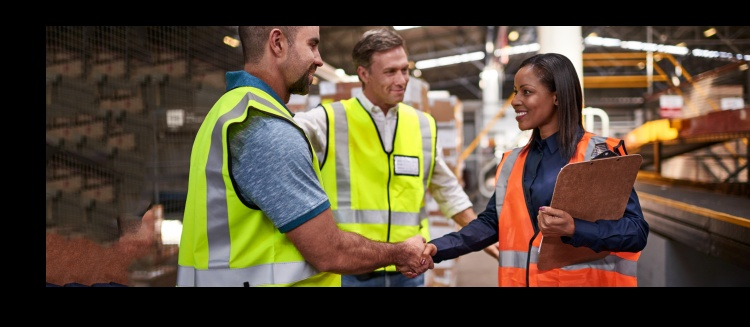person with partial safety: (186, 27, 327, 288), (492, 52, 627, 287), (321, 31, 436, 285)
safety vest: (183, 89, 325, 283), (492, 132, 637, 290), (319, 93, 433, 268)
